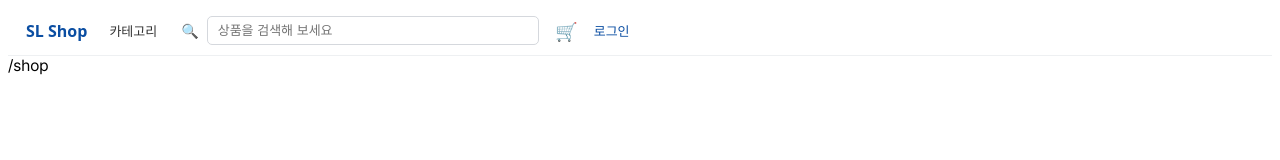
Test: Gnb — 검색 아이콘(round3 재작업 지시 1) › 검색어가 없고 목록 화면 밖이면 /shop/products로 이동하며 focusSearch state를 싣는다(포커스 자체는 이 Gnb 인스턴스가 걸지 않는다)
This screenshot has width=1280, height=160.
Click the button named "검색 화면으로 이동". click: x=190, y=30
box: 179,24 -> 201,38
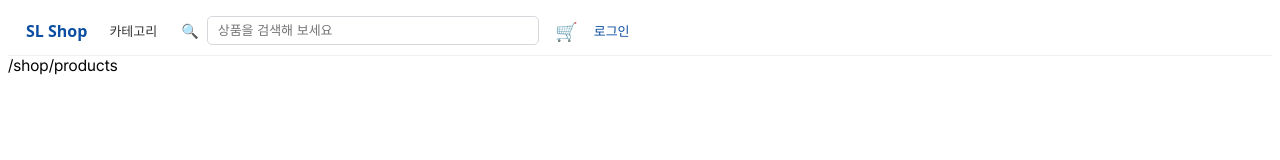
Now the text with test id "location-probe" reads "/shop/products", box 8,56 -> 118,75
